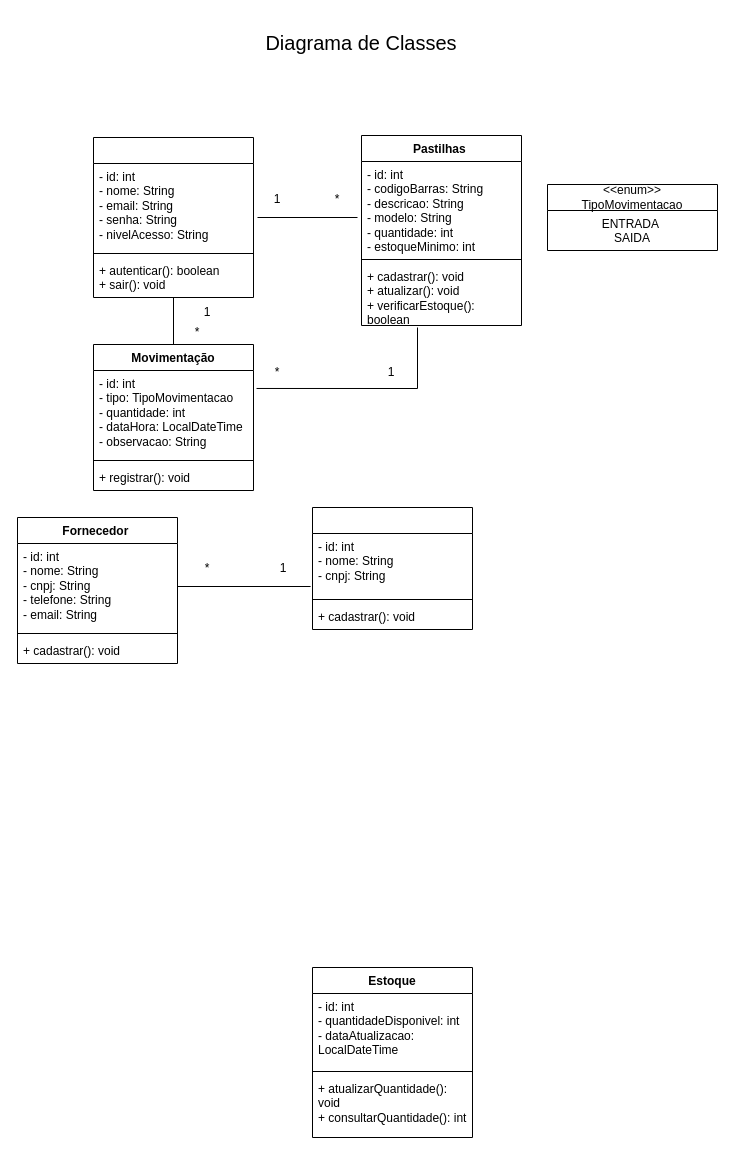
Some shapes in this 735 by 1157 pixel diagram are drawn without their labels. The box of each missing label's shape, as (x1, y1, x2, y2) in pixels:
Fabricantes: (312, 506, 472, 630)
Usuário: (92, 136, 254, 298)
